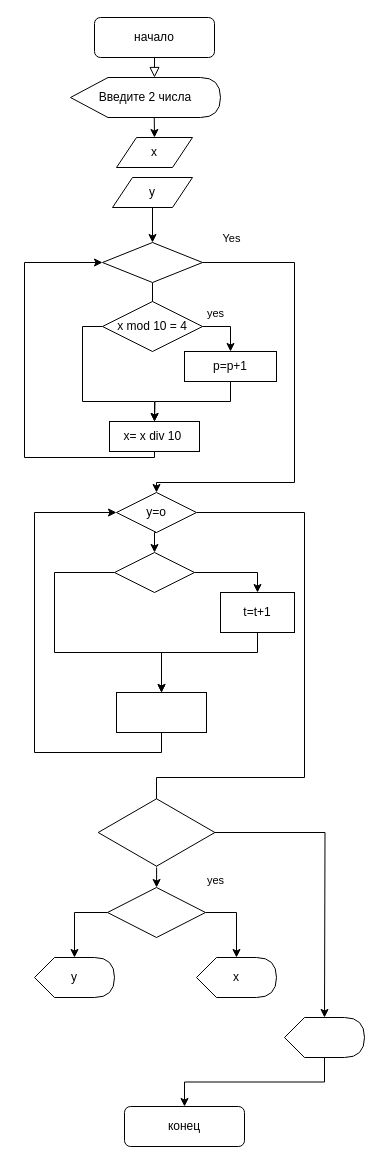
This 382x1164 diagram has some shape labels left out. The shapes that lost their labels are listed below. From the top down, each one's box as (x1, y1, x2, y2) in pixels, then its label:
(102, 242, 202, 282): x = 0
(114, 552, 194, 592): y mod 10 = 4
(116, 692, 206, 732): y=y div 10
(97, 796, 215, 868): p=0 t=0
(106, 886, 206, 938): p>t
(284, 1016, 364, 1058): такого числа нет
